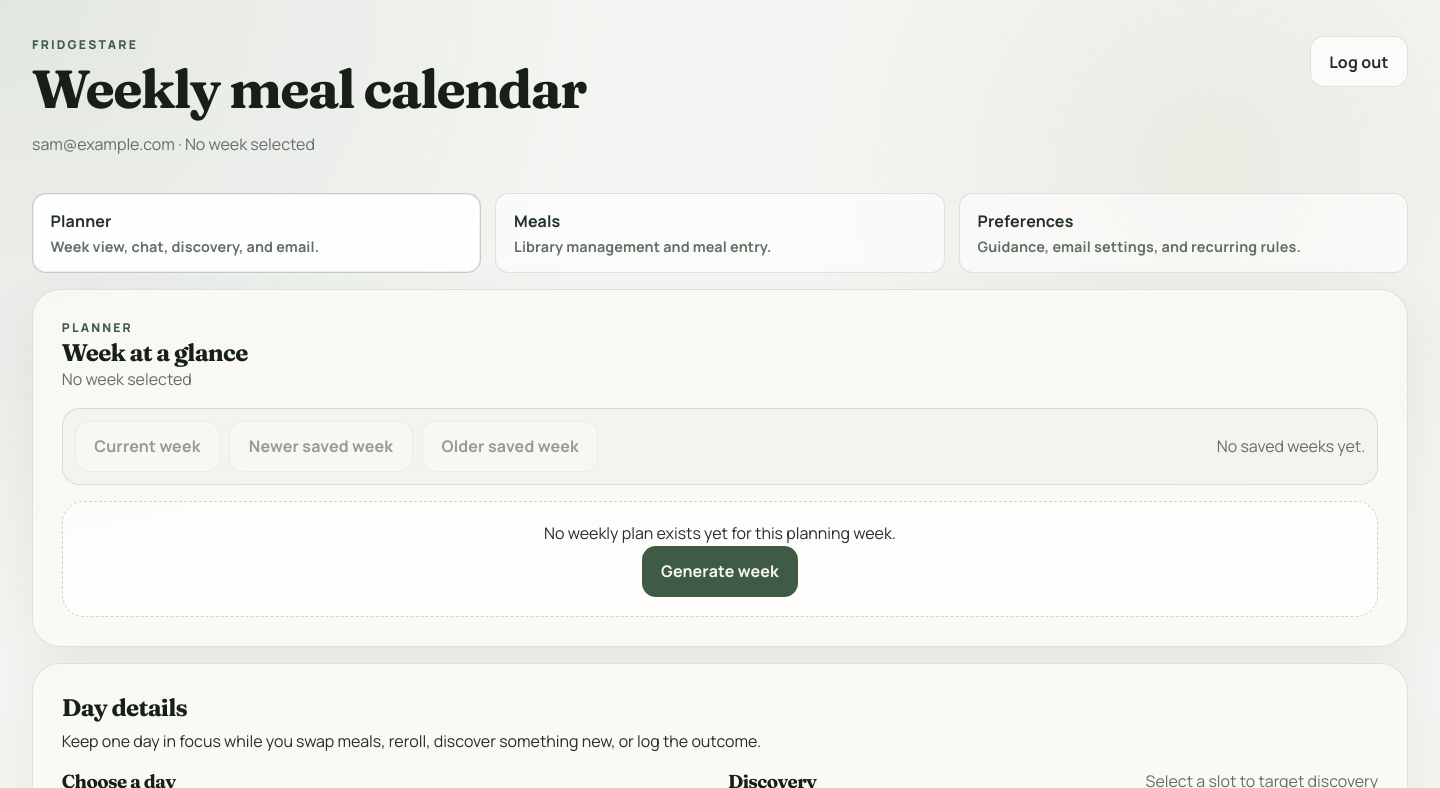
Test case: App › generates a missing week from the empty state
Click the button "Generate week".
click(720, 571)  # box left=642, top=546, right=798, bottom=597
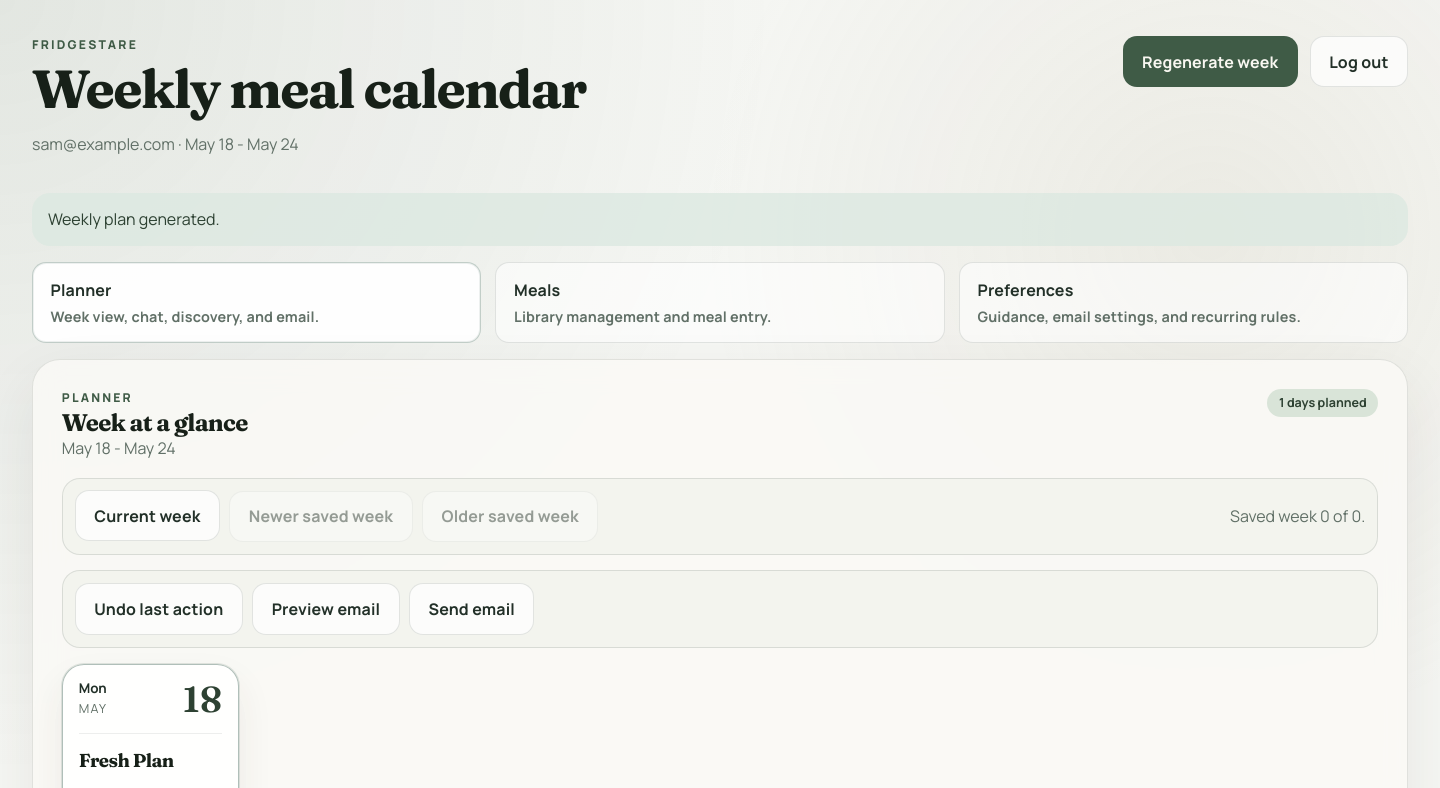
Check: the text "Weekly plan generated." is shown, box left=32, top=193, right=1408, bottom=246
Check: the heading "Fresh Plan" is shown, box left=79, top=749, right=174, bottom=772
